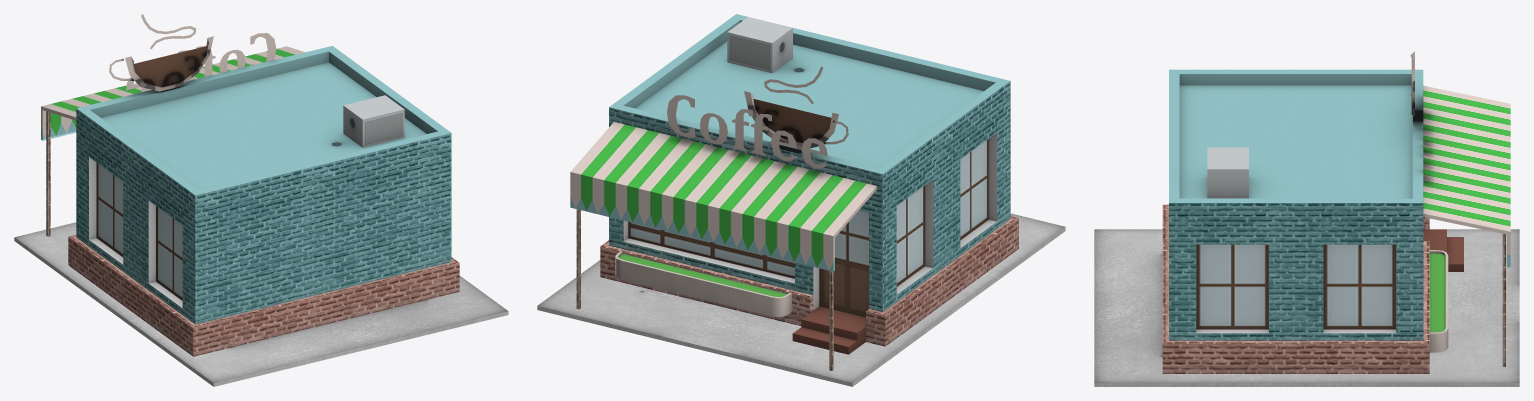
Rendered from BLD1210034 1.fbx.
The picture shows the model from 3 angles, left to right: view 1: azimuth 30°, elevation 25°; view 2: azimuth 150°, elevation 25°; view 3: azimuth 270°, elevation 25°; orthographic projection. The views are drawn at different scales.
Parts seen in each view (by area): view 1: smBLD1210034; view 2: smBLD1210034; view 3: smBLD1210034.
Part boxes in pixels (x1,y1,x2,y2): smBLD1210034: (14, 14, 508, 386); smBLD1210034: (537, 14, 1065, 386); smBLD1210034: (1094, 51, 1519, 386).
Bounding box in the file's own units: 777 × 615 × 910.
1 material, 1 textured.
